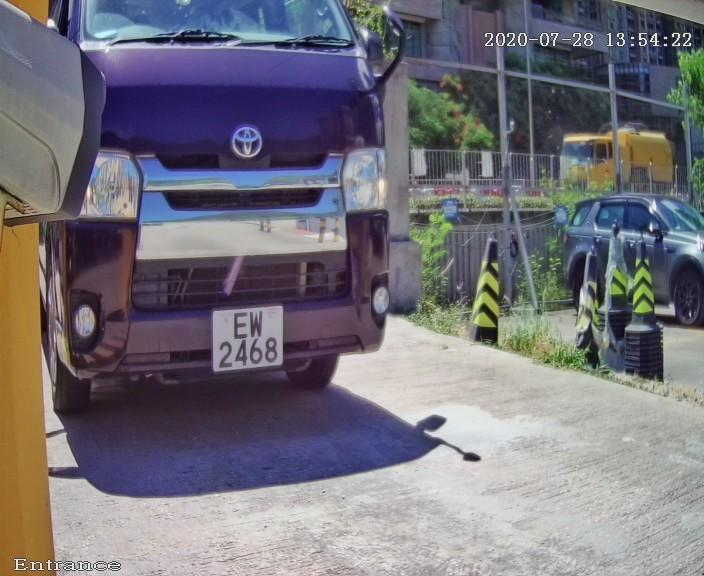privatecar: (19, 13, 450, 456)
